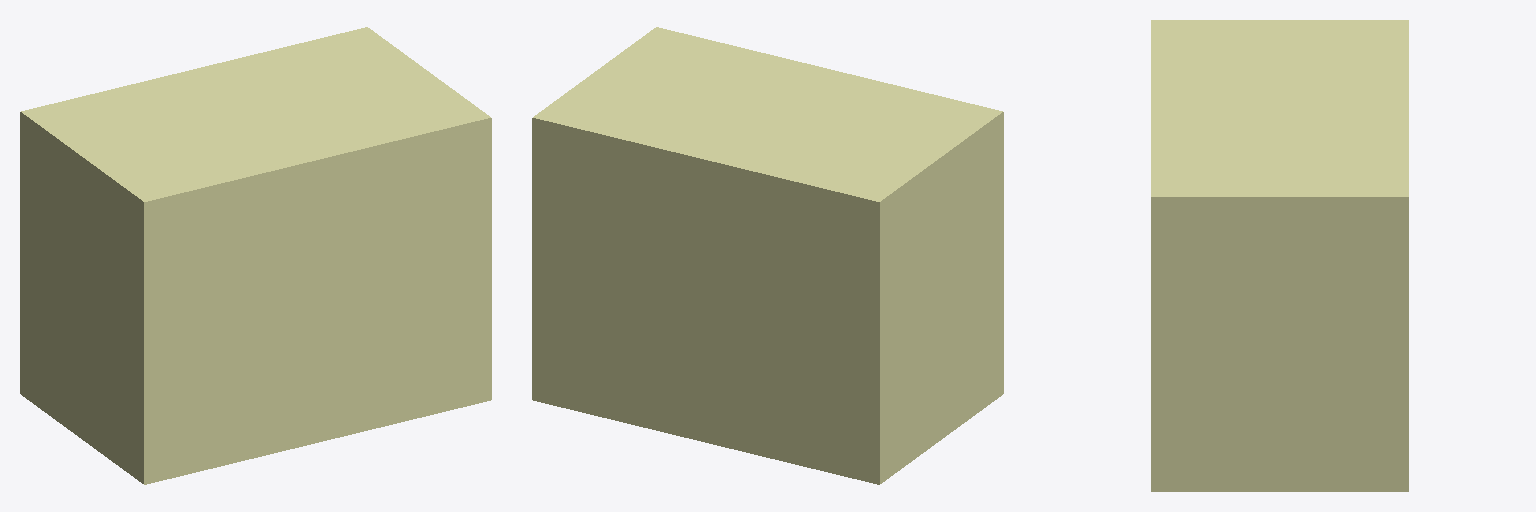
URDF robot description (box.urdf):
<?xml version="1.0" ?>
<robot name="box.urdf">
  <link name="baseLink">
    <contact>
      <lateral_friction value="1.0"/>
      <rolling_friction value="0.0001"/>
      <inertia_scaling value="3.0"/>
    </contact>
    <inertial>
      <origin rpy="0 0 0" xyz="0 0 0"/>
       <mass value="0.1"/>
       <inertia ixx="1" ixy="0" ixz="0" iyy="1" iyz="0" izz="1"/>
    </inertial>
    <visual>
      <origin rpy="0 0 0" xyz="0 0 0"/>
      <geometry>
        <!-- <box size="0.262 0.162 0.204"/> -->
        <mesh filename="box/box.obj" scale="0.262 0.162 0.204"/>
      </geometry>
      <material name="white">
        <color rgba="0.9 0.9 0.7 1"/>
      </material>
    </visual>
    <collision>
      <origin rpy="0 0 0" xyz="0 0 0"/>
      <geometry>
        <mesh filename="box/box.obj" scale="0.262 0.162 0.204"/>
	 	    <!-- <box size="0.262 0.162 0.204"/> -->
      </geometry>
    </collision>
  </link>
</robot>

--- Facts derived from the render (not from the file) ---
3 views of the same robot in one strip: view 1: azimuth 30°, elevation 25°; view 2: azimuth 150°, elevation 25°; view 3: azimuth 270°, elevation 25° (orthographic).
Robot: box.urdf — 1 links, 0 joints (none); root link baseLink; default pose: every joint at zero.
Visible links, largest first — view 1: baseLink; view 2: baseLink; view 3: baseLink.
Link boxes in pixels (box(x1,y1,x2,y2)): baseLink: box(20, 27, 491, 484); baseLink: box(532, 27, 1003, 484); baseLink: box(1151, 20, 1408, 491).
Bounding box of the posed robot: 0.262 × 0.162 × 0.204 m (x, y, z).
Meshes: 1 distinct files referenced, 1 mesh visuals loaded (1 OBJ).
